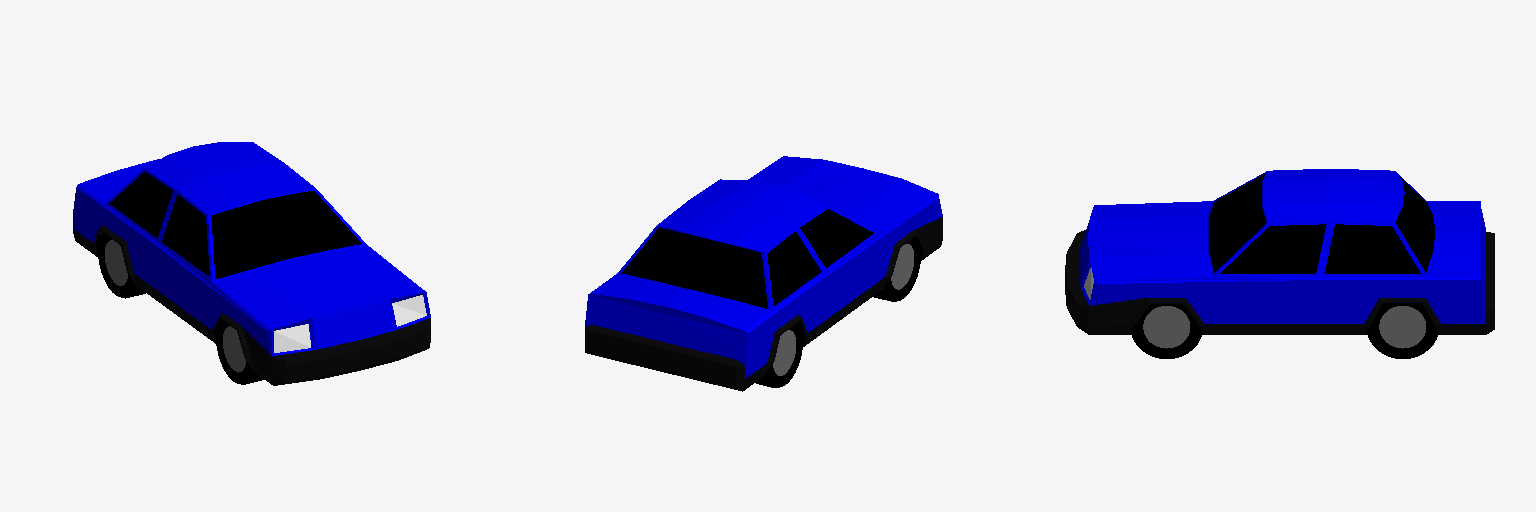
File: Car2.obj
3 renders of one model, left to right at view 1: azimuth 30°, elevation 25°; view 2: azimuth 150°, elevation 25°; view 3: azimuth 270°, elevation 25°, orthographic.
Visible parts, largest first — view 1: Car_Cube; view 2: Car_Cube; view 3: Car_Cube.
Boxes of the visible parts, x1,y1,x2,y2 form: Car_Cube: [73, 142, 430, 385]; Car_Cube: [585, 156, 942, 391]; Car_Cube: [1065, 169, 1494, 358].
Bounding box in the file's own units: 2.1 × 1.59 × 4.67.